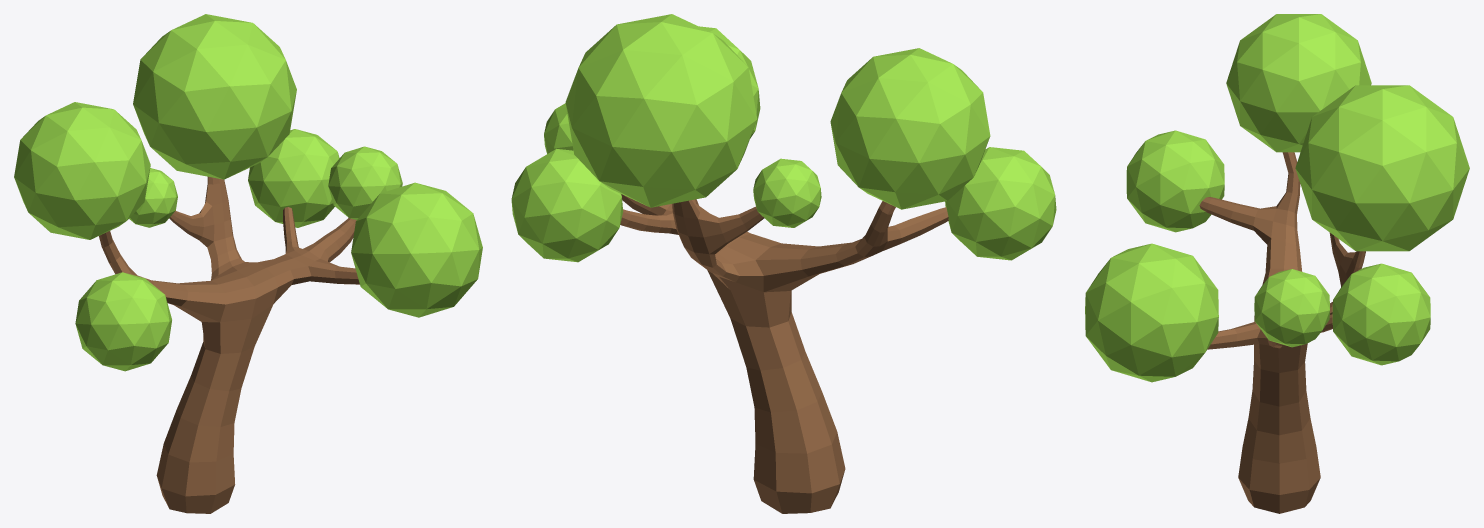
The model's file is arbol.gltf.
The picture shows the model from 3 angles, left to right: view 1: azimuth 30°, elevation 25°; view 2: azimuth 150°, elevation 25°; view 3: azimuth 270°, elevation 25°; orthographic projection. The views are drawn at different scales.
Parts seen in each view (by area): view 1: Cube.026, Icosphere.005, Icosphere, Icosphere.002, Icosphere.001, Icosphere.004, Icosphere.003, Icosphere.006; view 2: Cube.026, Icosphere.005, Icosphere, Icosphere.004, Icosphere.001, Icosphere.006, Icosphere.003, Icosphere.002; view 3: Icosphere.005, Cube.026, Icosphere.002, Icosphere, Icosphere.004, Icosphere.001, Icosphere.003.
Part boxes in pixels (x1=…): Cube.026: x1=99, y1=176, x2=359, y2=513; Icosphere.005: x1=133, y1=14, x2=296, y2=179; Icosphere: x1=14, y1=102, x2=150, y2=239; Icosphere.002: x1=351, y1=182, x2=482, y2=317; Icosphere.001: x1=75, y1=272, x2=171, y2=371; Icosphere.004: x1=248, y1=129, x2=339, y2=227; Icosphere.003: x1=328, y1=146, x2=402, y2=219; Icosphere.006: x1=129, y1=168, x2=177, y2=227; Cube.026: x1=620, y1=194, x2=948, y2=513; Icosphere.005: x1=565, y1=14, x2=757, y2=207; Icosphere: x1=830, y1=48, x2=990, y2=209; Icosphere.004: x1=511, y1=149, x2=623, y2=262; Icosphere.001: x1=945, y1=147, x2=1056, y2=260; Icosphere.006: x1=753, y1=158, x2=821, y2=227; Icosphere.003: x1=544, y1=103, x2=573, y2=153; Icosphere.002: x1=699, y1=26, x2=760, y2=138; Icosphere.005: x1=1295, y1=85, x2=1469, y2=251; Cube.026: x1=1199, y1=152, x2=1365, y2=513; Icosphere.002: x1=1085, y1=243, x2=1218, y2=382; Icosphere: x1=1226, y1=14, x2=1371, y2=152; Icosphere.004: x1=1332, y1=263, x2=1430, y2=365; Icosphere.001: x1=1126, y1=130, x2=1224, y2=232; Icosphere.003: x1=1254, y1=269, x2=1329, y2=347.
Bounding box in the file's own units: 3.34 × 3.68 × 2.82.
